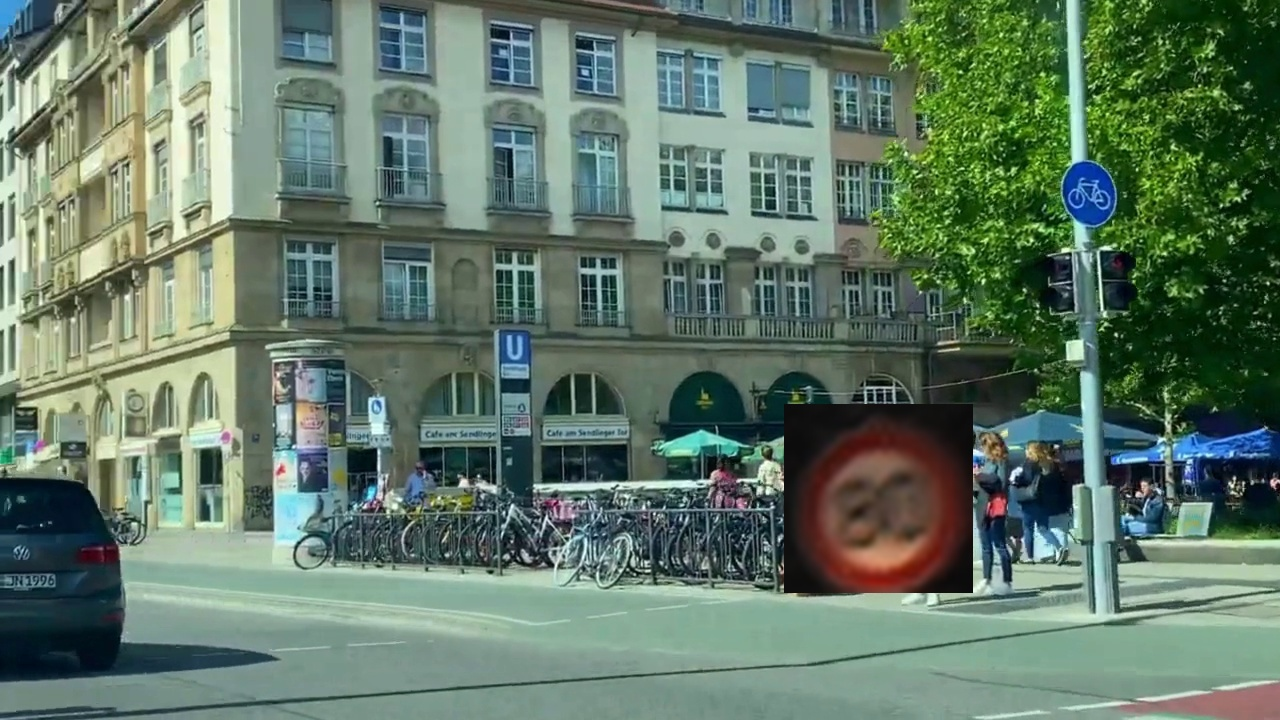Speed 80: (784, 404, 973, 593)
